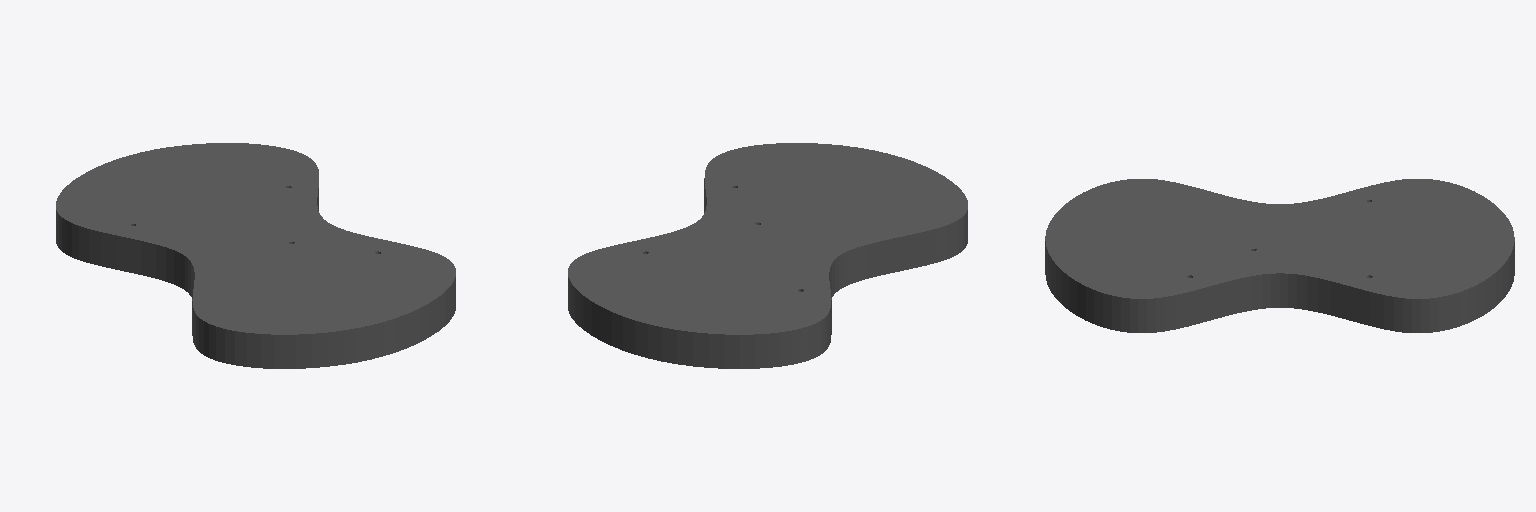
File: butter.obj
3 views of the same model, side by side, from view 1: azimuth 30°, elevation 25°; view 2: azimuth 150°, elevation 25°; view 3: azimuth 270°, elevation 25° (orthographic).
Parts seen in each view (by area): view 1: StainlessSteel_butter; view 2: StainlessSteel_butter; view 3: StainlessSteel_butter.
Boxes of the visible parts, x1=… form: StainlessSteel_butter: x1=56, y1=143, x2=455, y2=368; StainlessSteel_butter: x1=568, y1=143, x2=967, y2=368; StainlessSteel_butter: x1=1045, y1=179, x2=1514, y2=332.
Size of the model in its own units: 0.0955 by 0.0127 by 0.1573.